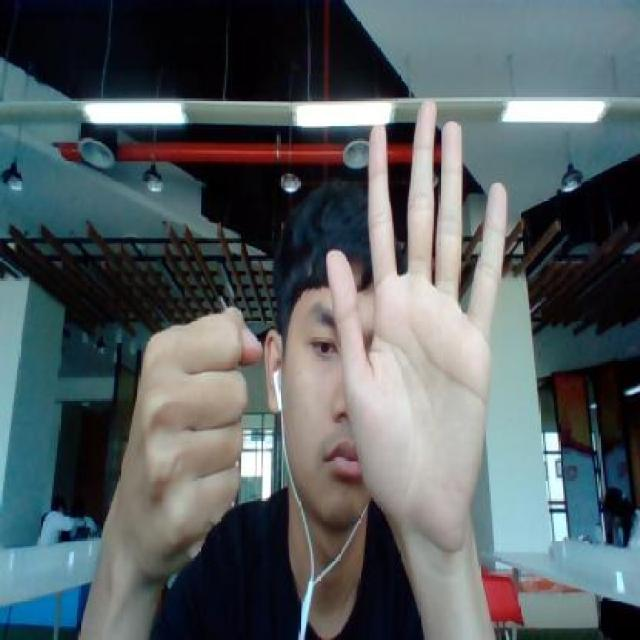Rock: (82, 267, 283, 524)
Scissors: (321, 94, 532, 549)
